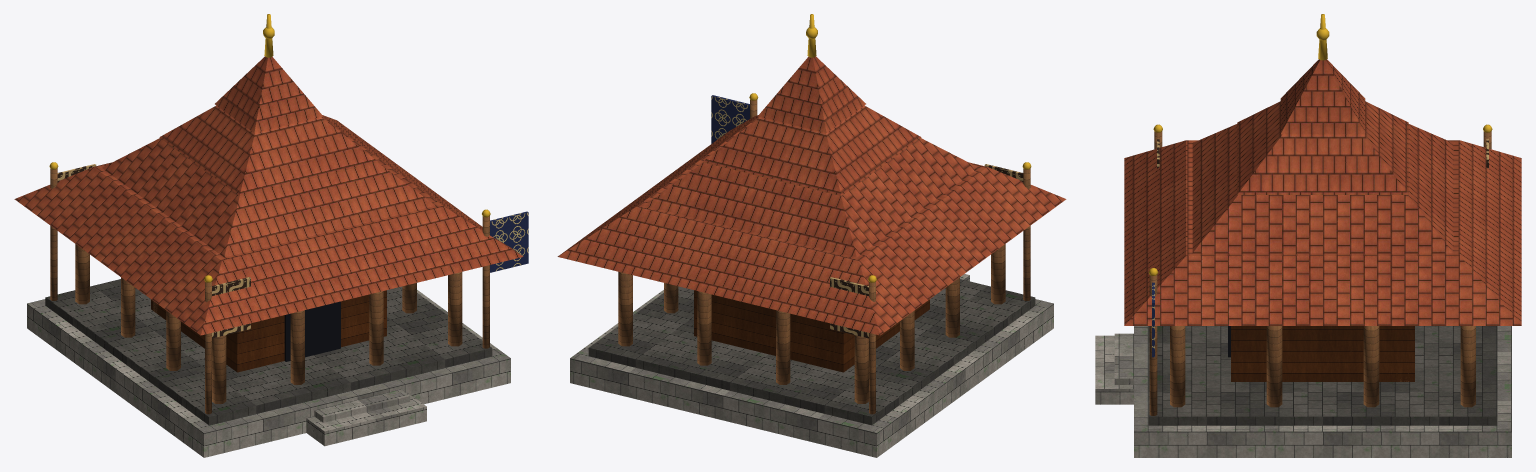
The model's file is tc_jawa.glb.
The picture shows the model from 3 angles, left to right: view 1: azimuth 30°, elevation 25°; view 2: azimuth 150°, elevation 25°; view 3: azimuth 270°, elevation 25°; orthographic projection. The views are drawn at different scales.
Visible parts, largest first — view 1: tc_jawa; view 2: tc_jawa; view 3: tc_jawa.
Boxes of the visible parts, box(x1,y1,x2,y2) form: tc_jawa: box(14, 14, 528, 457); tc_jawa: box(557, 14, 1066, 457); tc_jawa: box(1095, 14, 1521, 457).
Size of the model in its own units: 4.33 by 4.14 by 4.4.
Materials: 9 (7 with a texture image).
